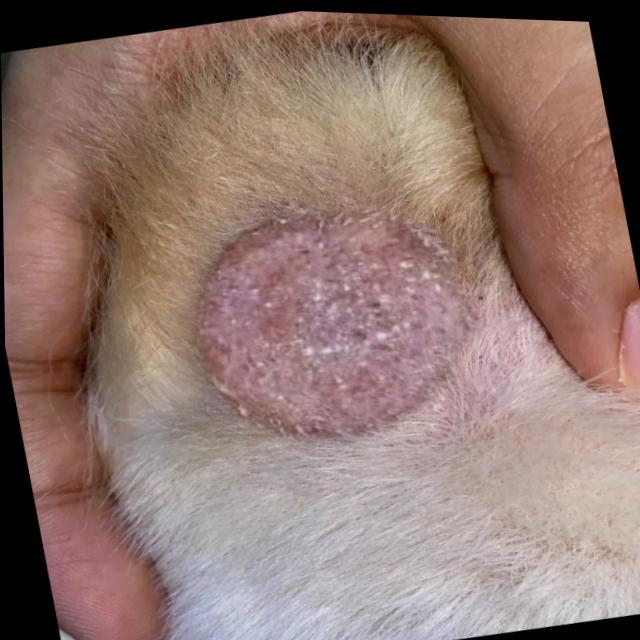ringworm: (152, 181, 489, 485)
